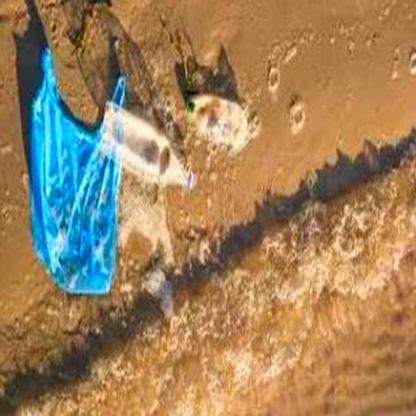plastic bag: (28, 48, 125, 296)
plastic bottle: (102, 102, 196, 189)
